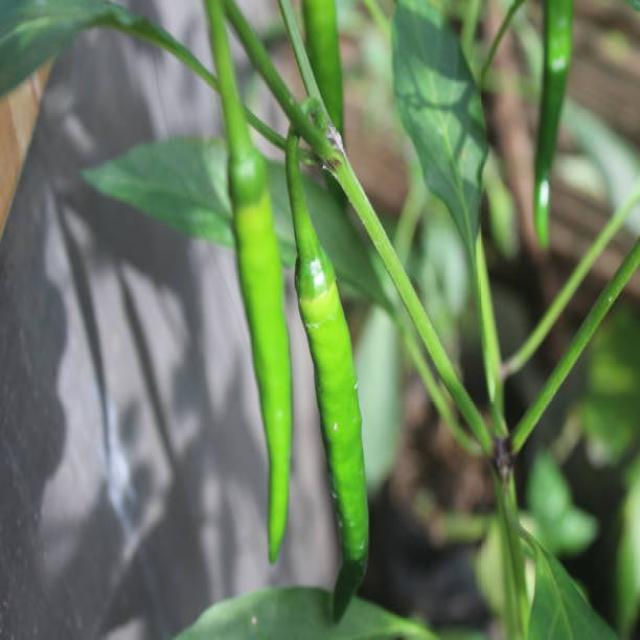Unripe: (298, 265, 368, 618), (235, 205, 291, 560)
